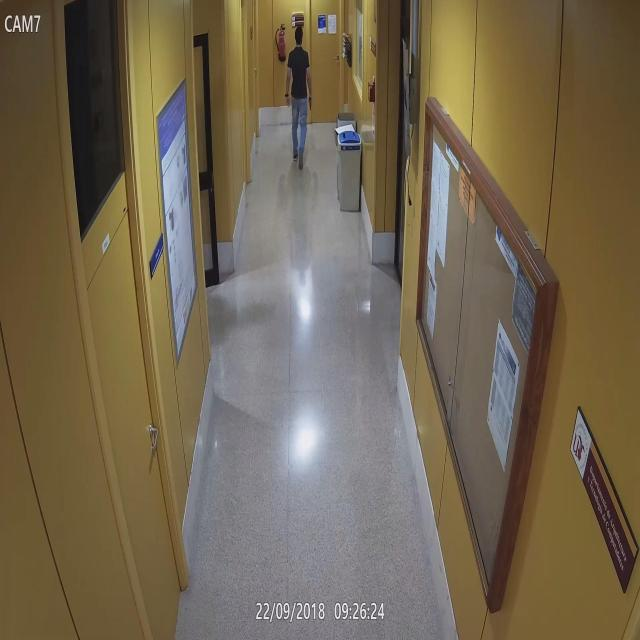pistol: (306, 90, 315, 116)
